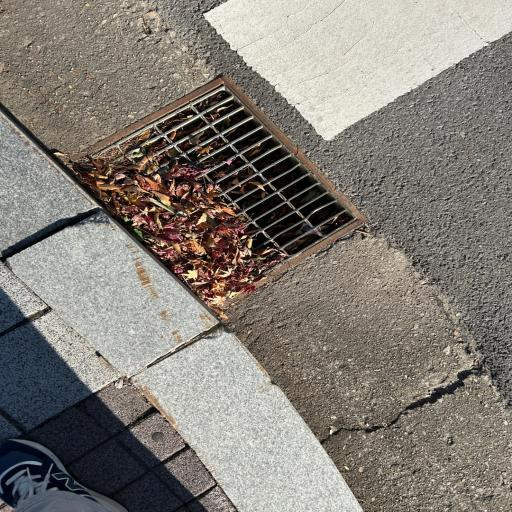debris: (81, 155, 286, 303), (120, 128, 159, 152), (160, 109, 196, 130), (132, 139, 168, 159), (182, 129, 215, 150), (222, 167, 253, 188), (230, 178, 264, 197), (193, 140, 226, 159), (289, 234, 317, 253), (207, 102, 233, 120), (212, 166, 234, 180), (249, 144, 262, 156)
drain: (72, 75, 369, 308)
